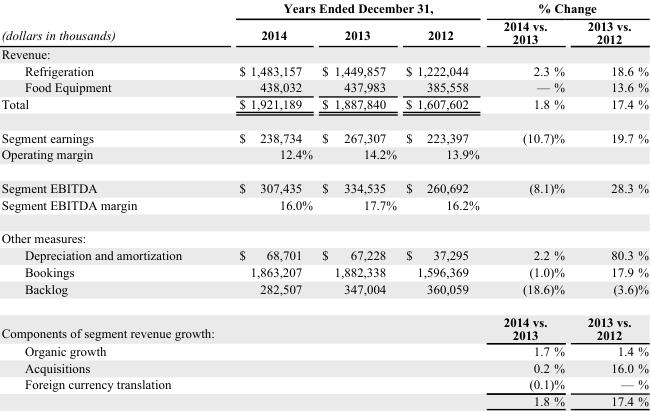table: (0, 0, 648, 408)
table column: (0, 0, 226, 408), (226, 0, 316, 408), (400, 0, 490, 408), (490, 0, 575, 408), (316, 0, 400, 408), (575, 0, 648, 408)
table column header: (0, 0, 648, 46)
table projected row header: (0, 221, 648, 246), (0, 46, 648, 61)
table row: (0, 305, 648, 342), (0, 17, 648, 46), (0, 170, 648, 196), (0, 95, 648, 120), (0, 120, 648, 145), (0, 145, 648, 170), (0, 196, 648, 221), (0, 221, 648, 246), (0, 280, 648, 305), (0, 0, 648, 17), (0, 61, 648, 78), (0, 78, 648, 95), (0, 246, 648, 263), (0, 263, 648, 280), (0, 358, 648, 375), (0, 375, 648, 392), (0, 342, 648, 358), (0, 392, 648, 408), (0, 46, 648, 61)
table spanning cell: (0, 0, 226, 46), (226, 0, 490, 17), (490, 0, 648, 17)
